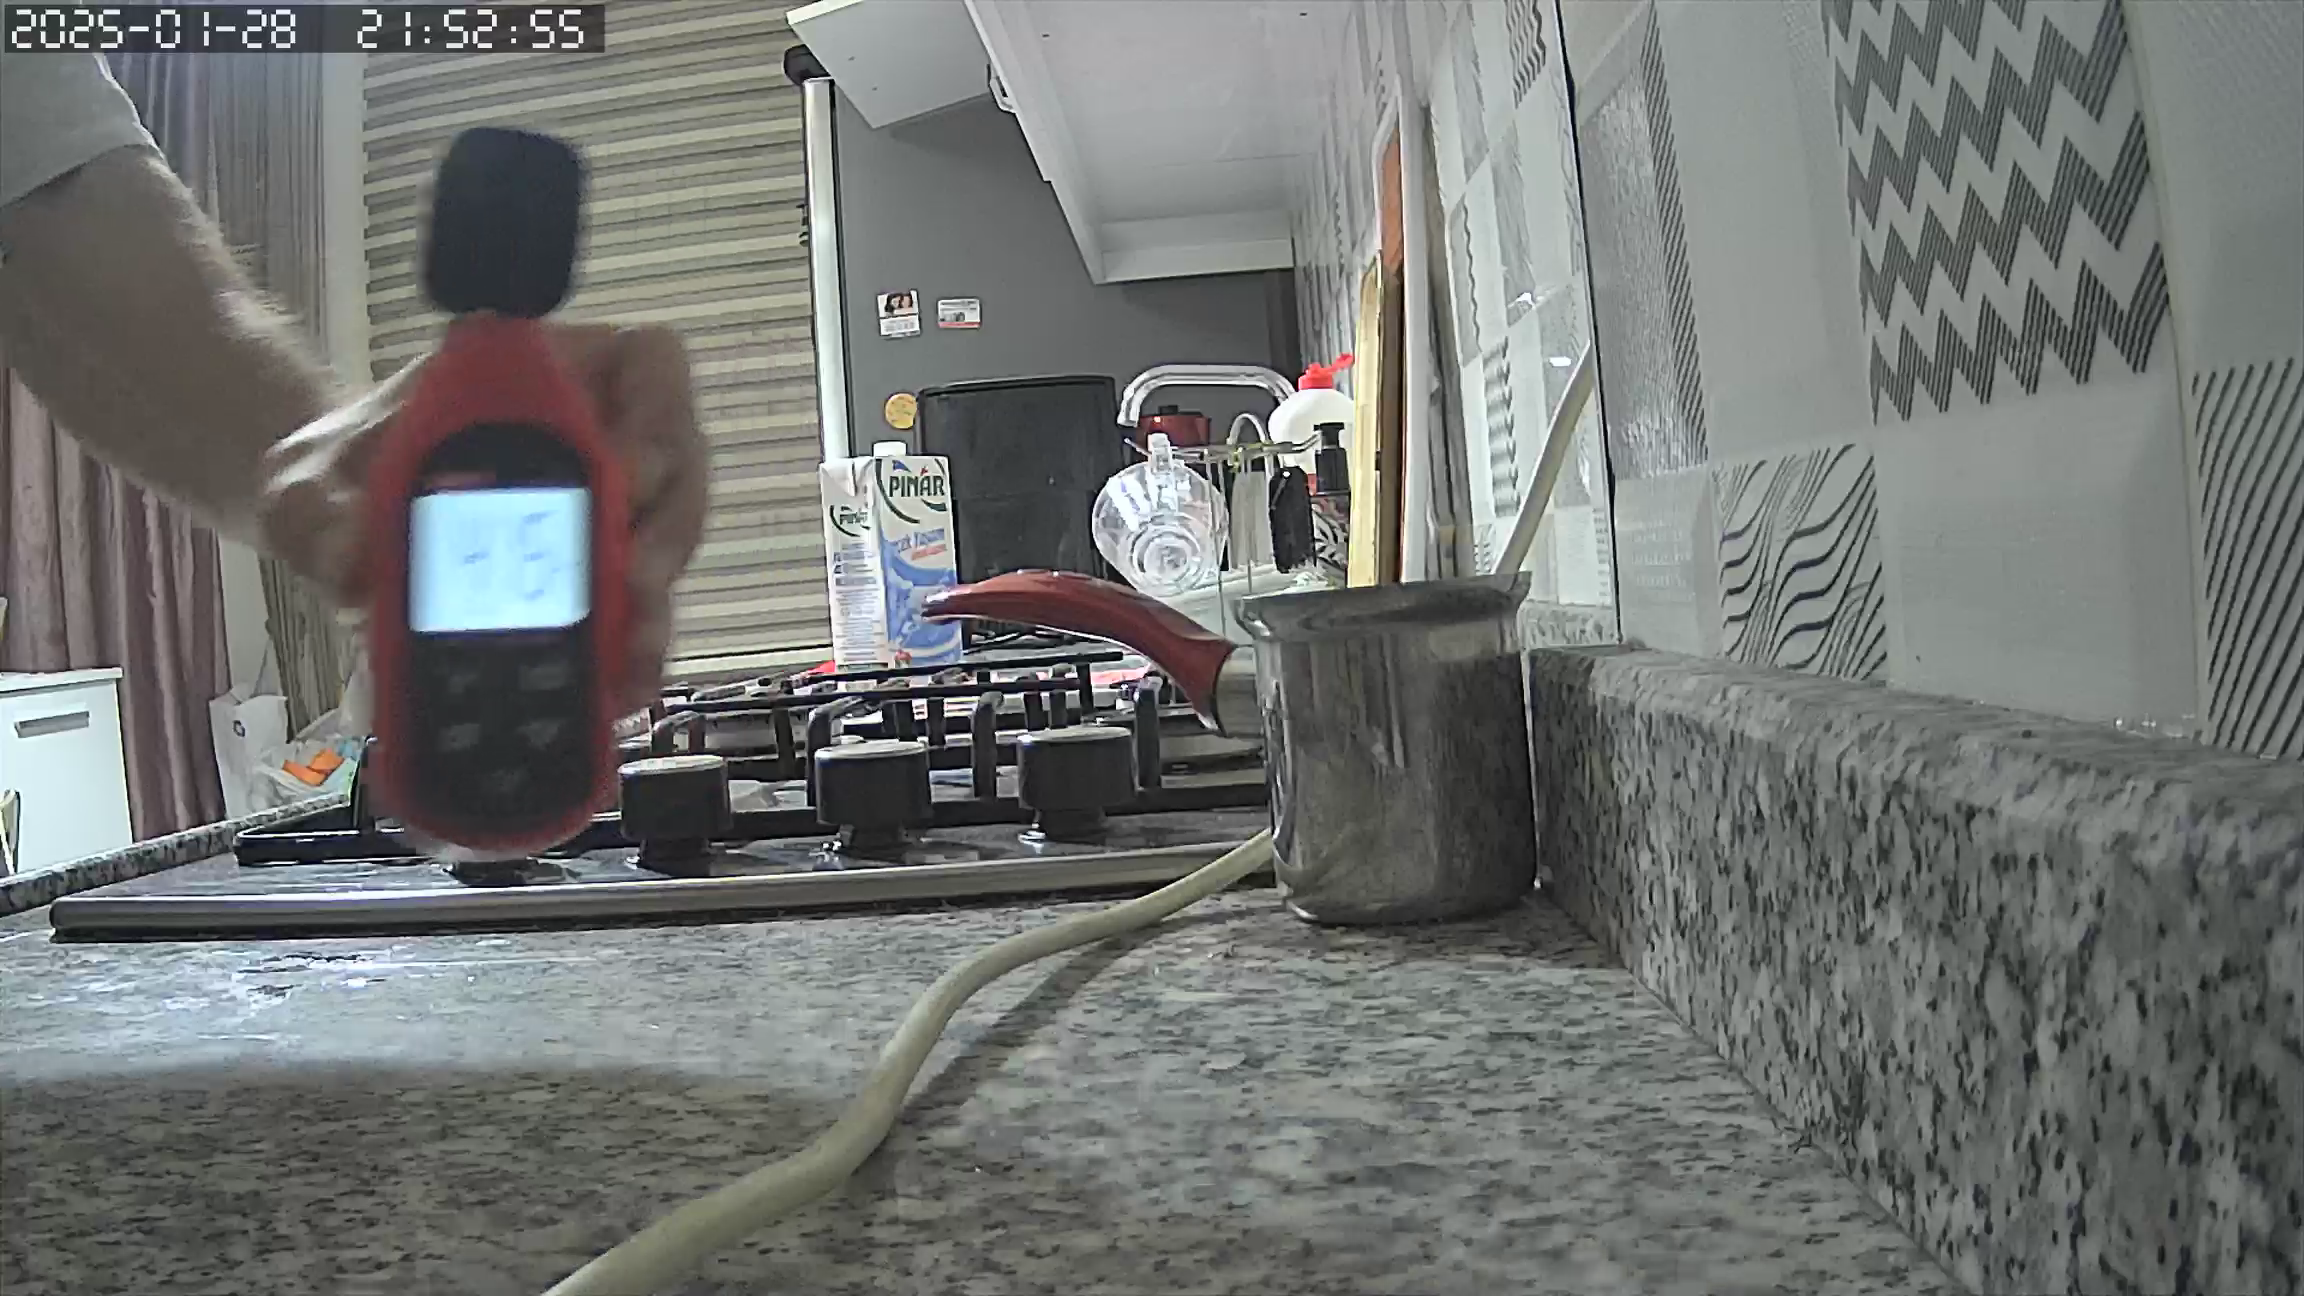screen: (404, 487, 590, 631)
